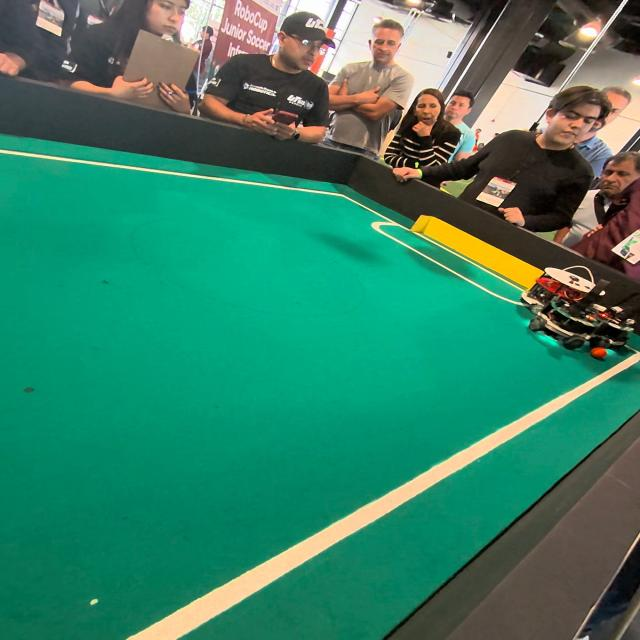Robot: (519, 262, 635, 361)
pelota: (590, 347, 610, 361)
